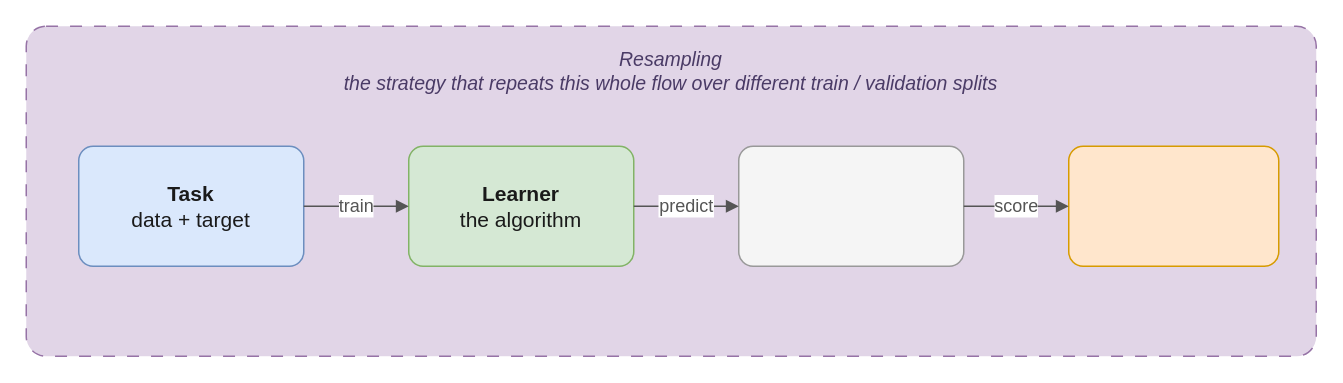
Some shapes in this 1343 by 383 pixel diagram are drawn without their labels. Here are the shapes that lost their labels. From the top down, the centre of each, then its label:
At (x=850, y=205): "Predictions on held-out data".
At (x=1173, y=205): "Measure score".
